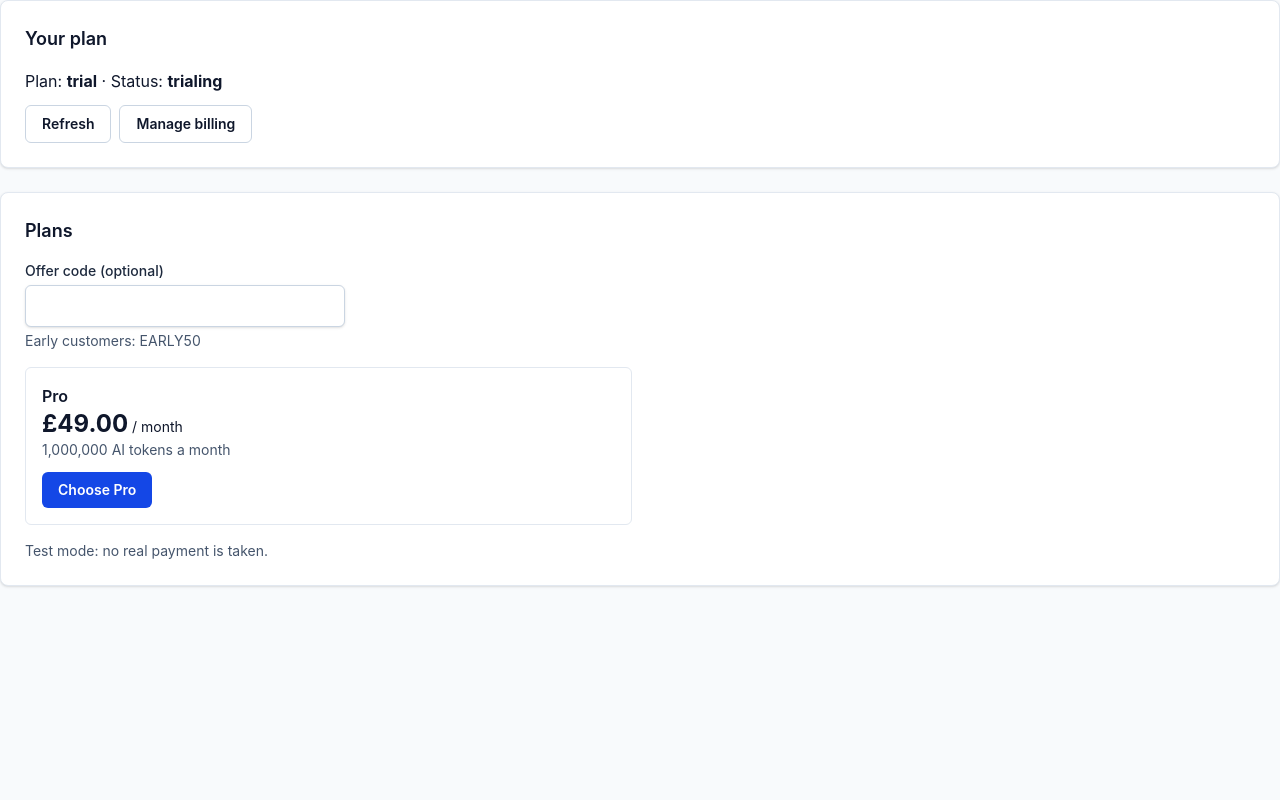
Test: Billing: unsafe redirects and unverified owners › refuses an http://evil checkout url
Click the button "Choose Pro": (97,490) [42, 472, 152, 508]
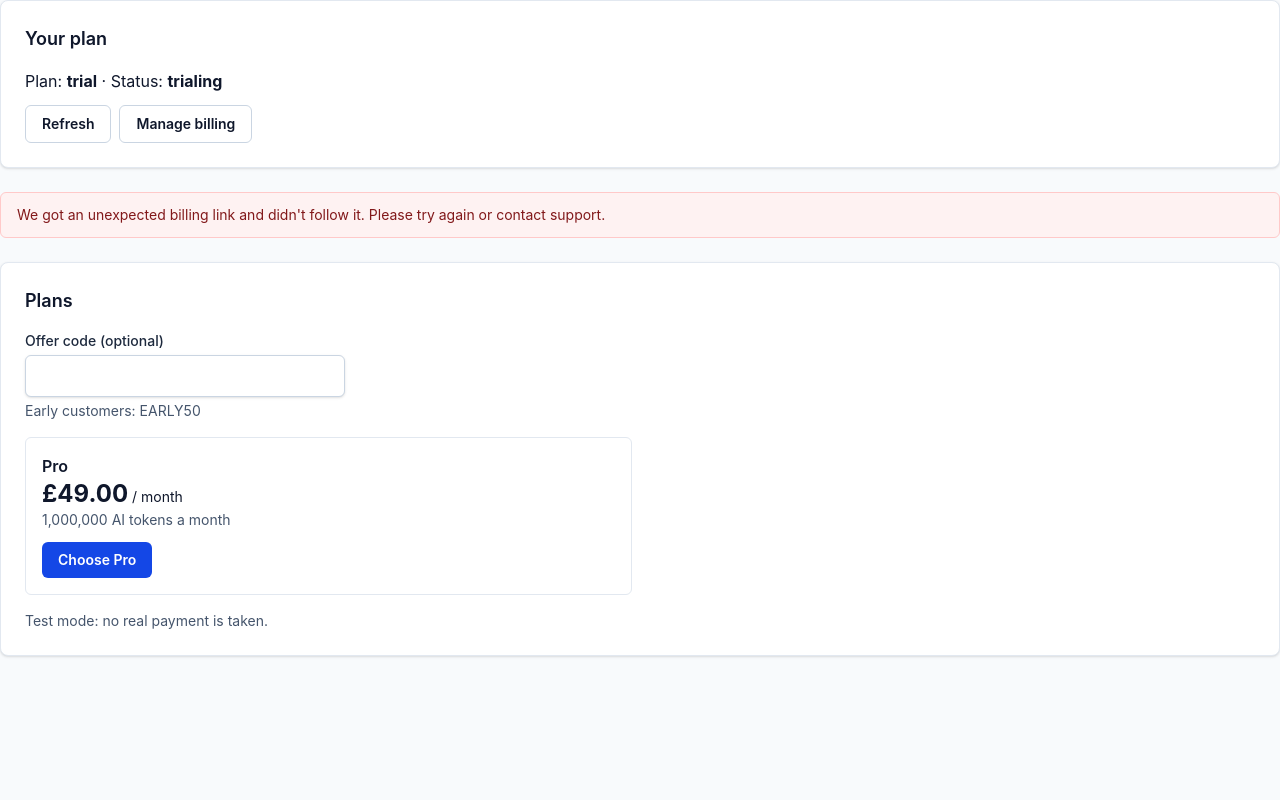
Check: the message shows "unexpected billing link", box [17, 206, 605, 223]
